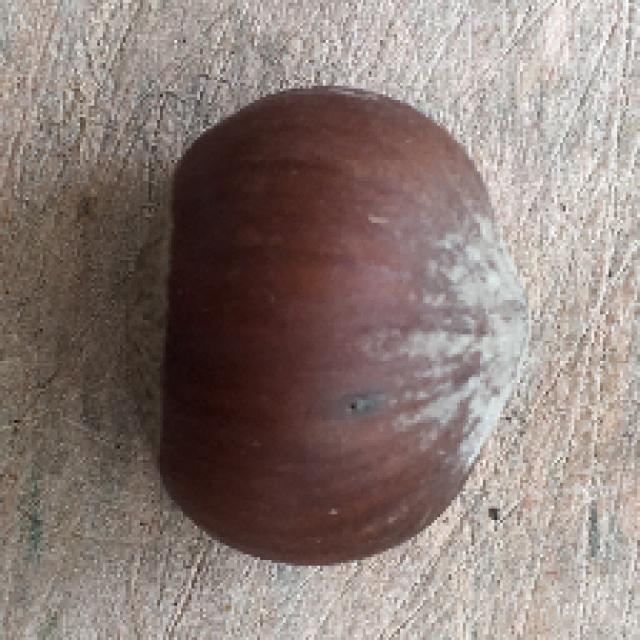damagedHazelnut: (121, 80, 538, 568)
